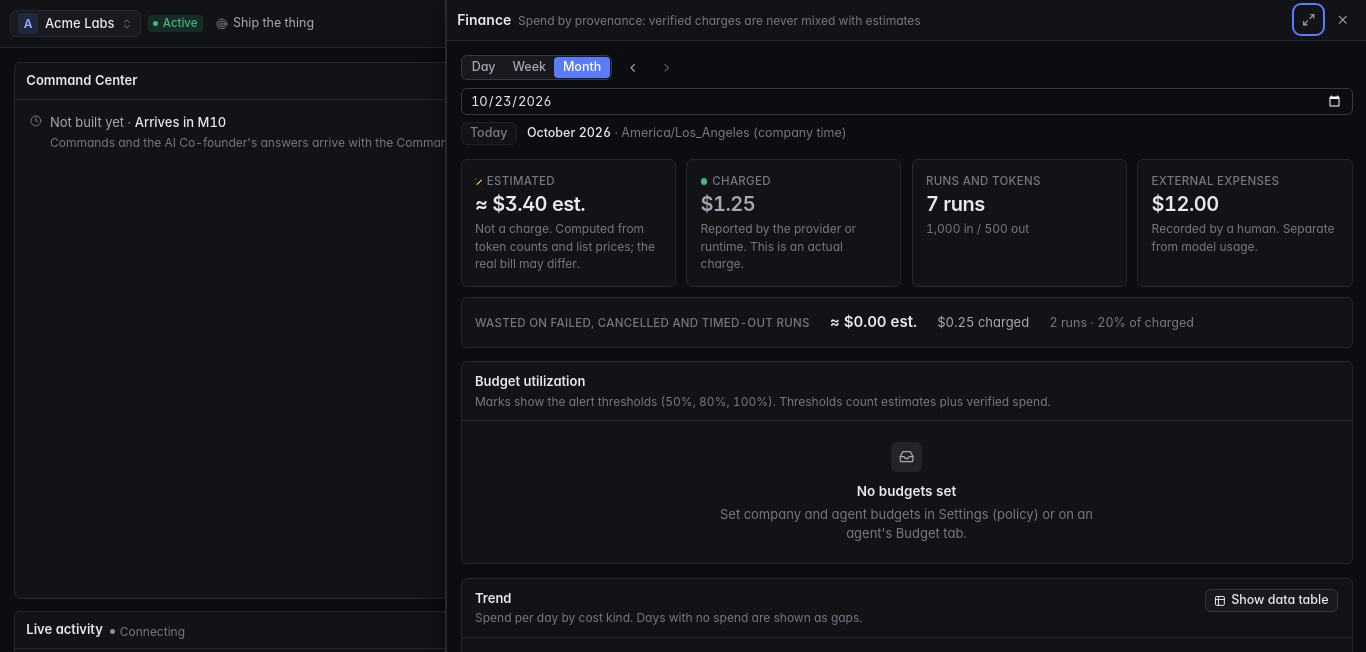
Test case: Finance periods in company time › jumps to a picked date
Expected: the text "October 2026" is shown, [527, 125, 611, 140]
Type "2026-08-15" into the date field named "Pick a date in the period".
click(906, 101); type("2026-08-15")  # box [460, 88, 1352, 115]
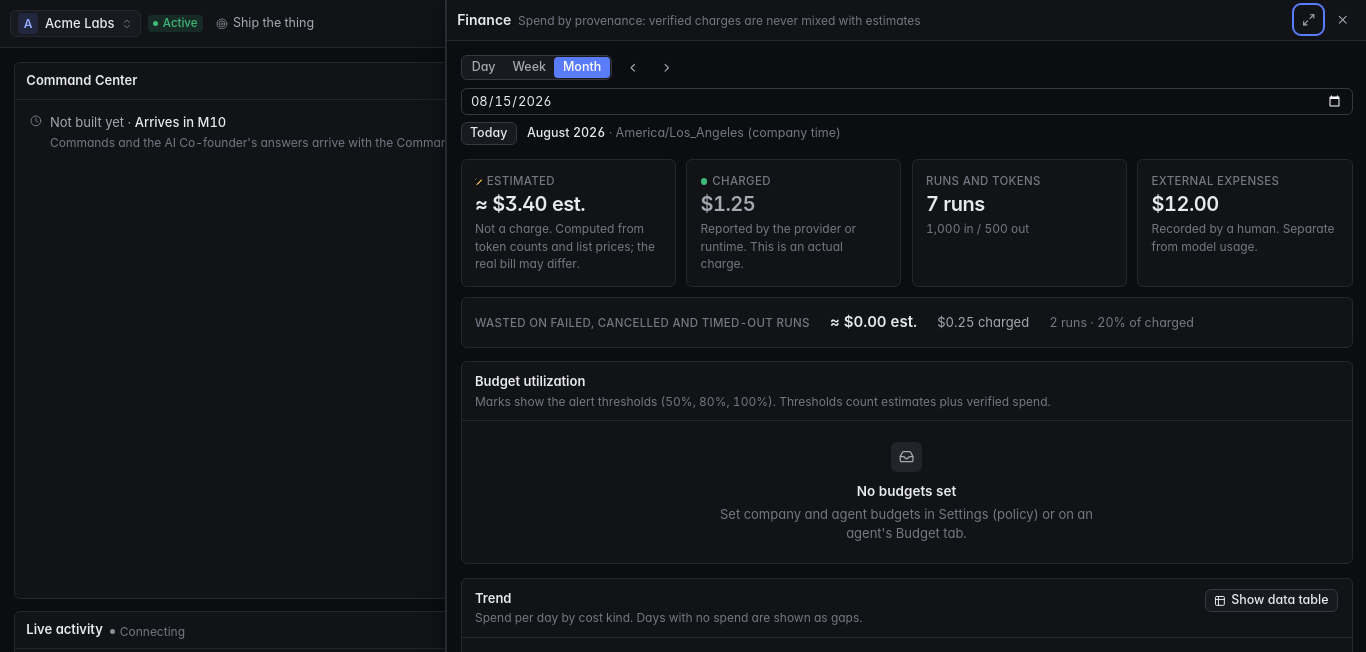
Now the text "August 2026" is shown, box [527, 125, 605, 140]
